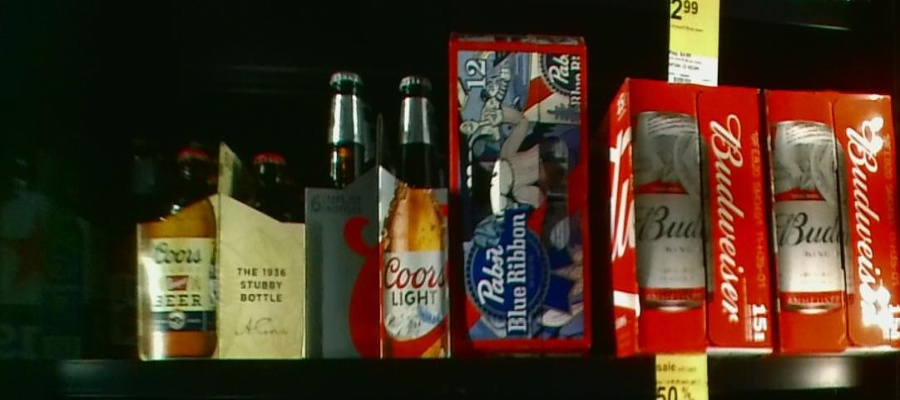bottle: (448, 30, 594, 357), (596, 78, 771, 350), (305, 72, 450, 356), (766, 81, 900, 355), (139, 146, 304, 361), (1, 120, 104, 360), (106, 136, 140, 364)
